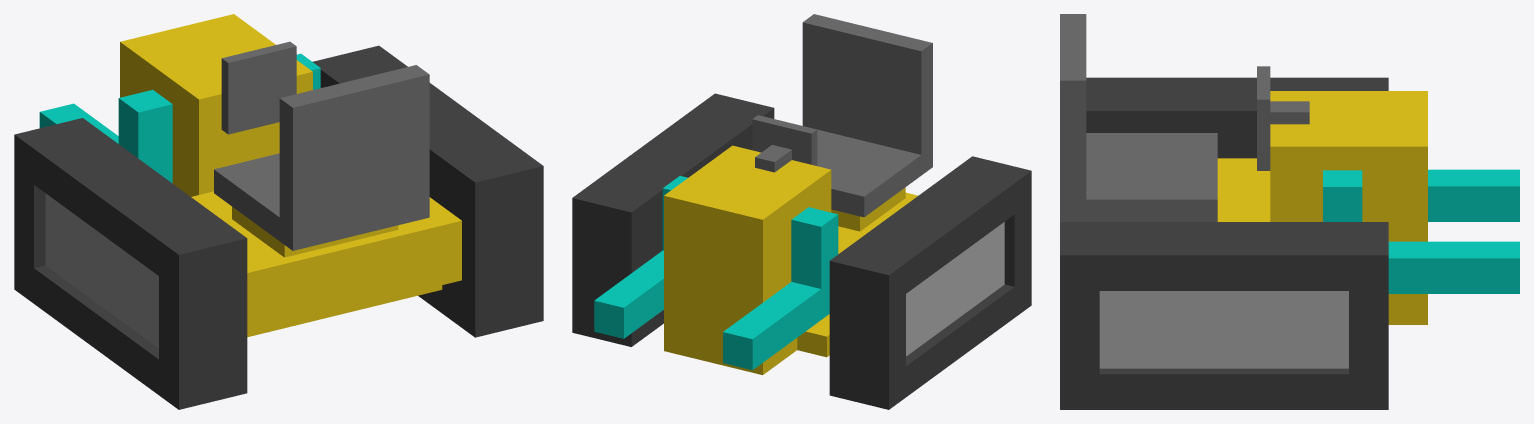
The model's file is bulldozer3.obj.
3 renders of one model, left to right at view 1: azimuth 30°, elevation 25°; view 2: azimuth 150°, elevation 25°; view 3: azimuth 270°, elevation 25°, orthographic. The views are drawn at different scales.
Bounding box in the file's own units: 32 × 23 × 35.
1 material, 1 textured.
